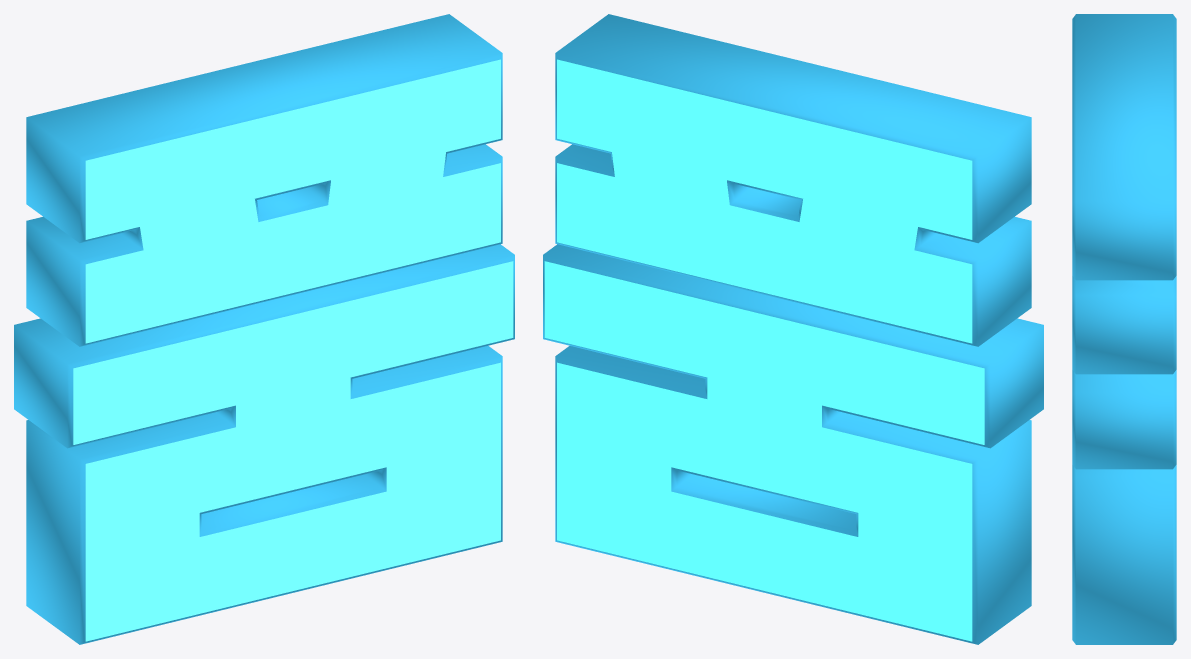
3 views of the same model, side by side, from view 1: azimuth 30°, elevation 25°; view 2: azimuth 150°, elevation 25°; view 3: azimuth 270°, elevation 25° (orthographic). The views are drawn at different scales.
Visible parts, largest first — view 1: glyph; view 2: glyph; view 3: glyph.
Part boxes in pixels (<box>): glyph: <box>14,14,514,644</box>; glyph: <box>543,14,1043,644</box>; glyph: <box>1072,14,1176,644</box>.
Size of the model in its own units: 0.0726 by 0.0758 by 0.0162.
